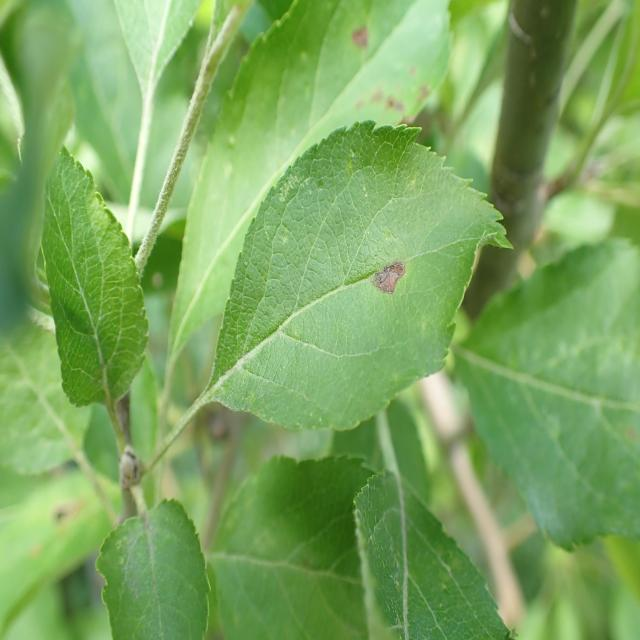Black Rot: (347, 244, 409, 316)
